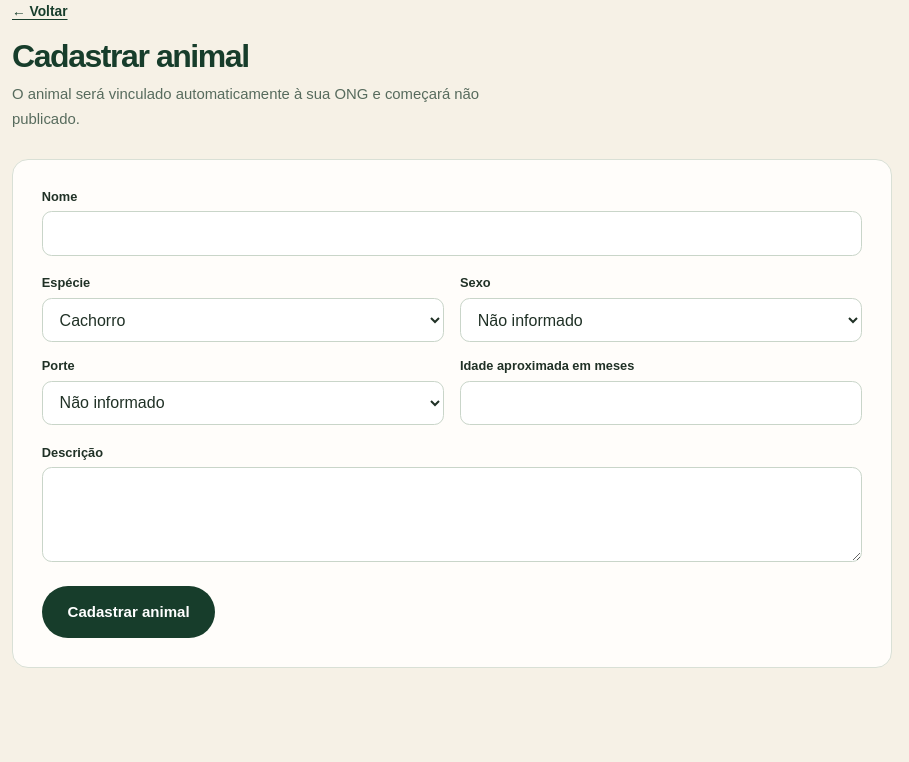
Scenario: área institucional › preserva campos do cadastro animal após erro de validação
Type "Luna" into the field labelled "Nome" at (452, 234), box left=42, top=211, right=862, bottom=256
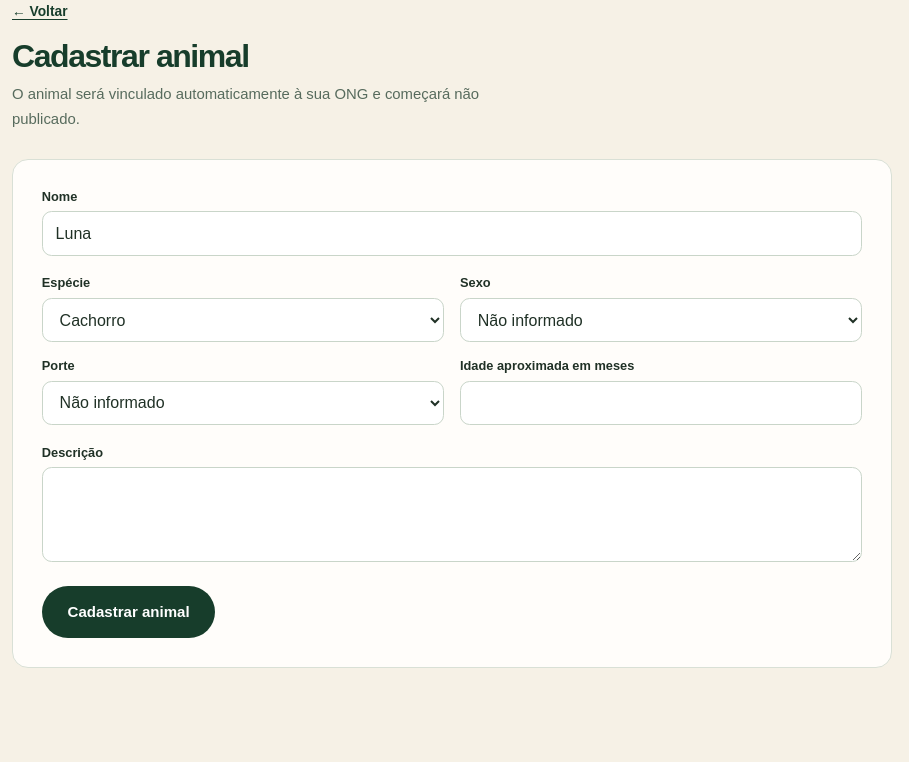
Type "5" into the number field labelled "Idade aproximada em meses" at (661, 403), box left=460, top=381, right=862, bottom=425
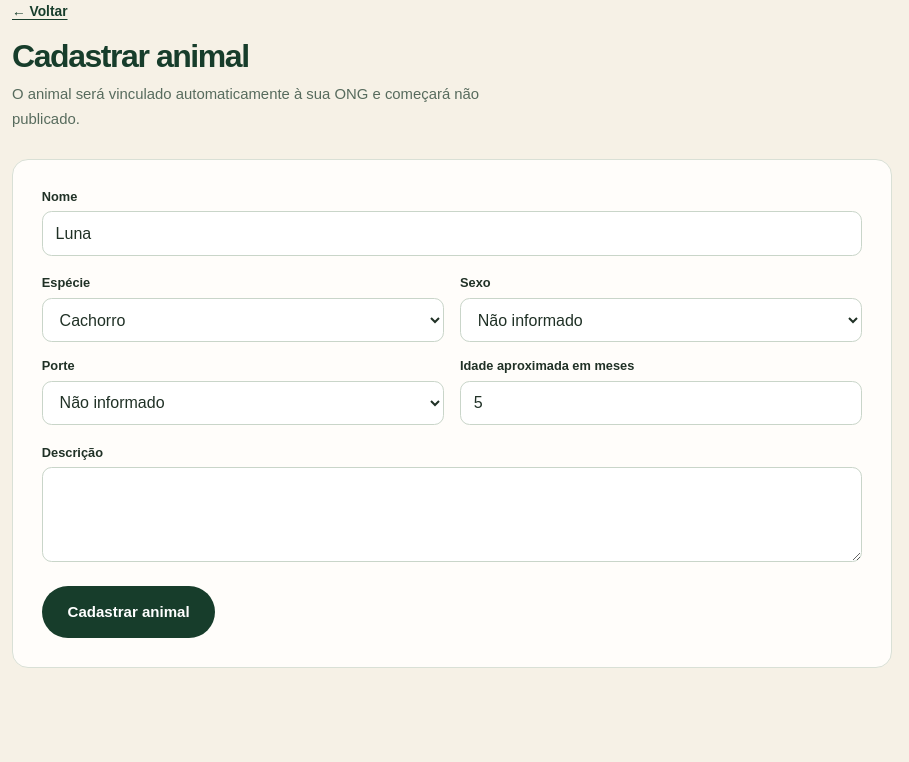
Click the button "Cadastrar animal" at (129, 612), box left=42, top=586, right=215, bottom=638
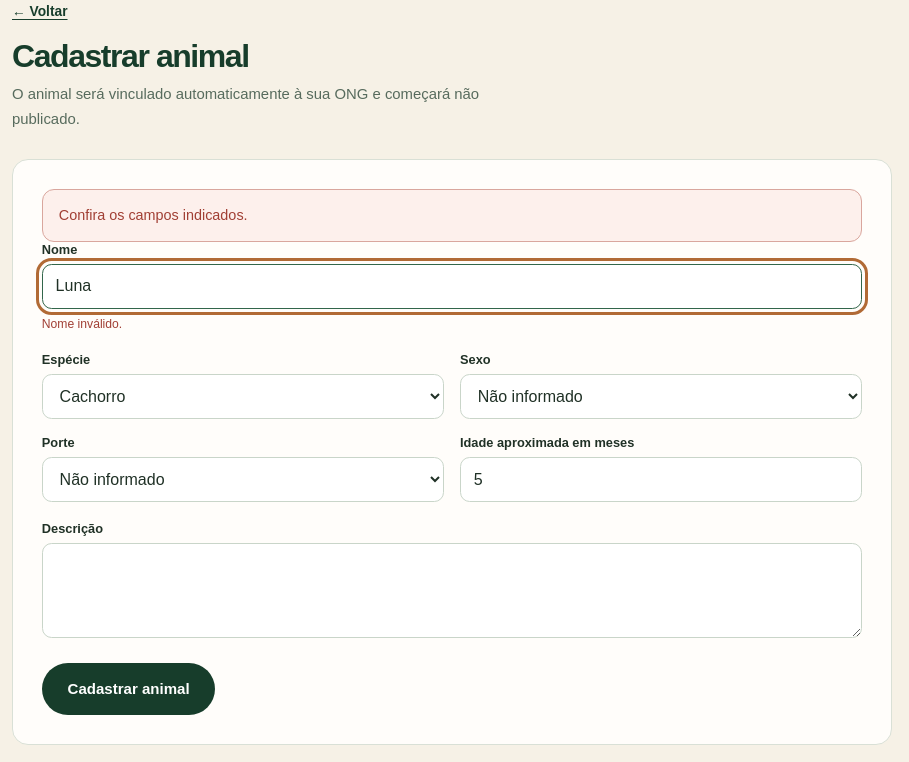
Result: the text "Nome inválido." is shown at left=42, top=317, right=122, bottom=331
